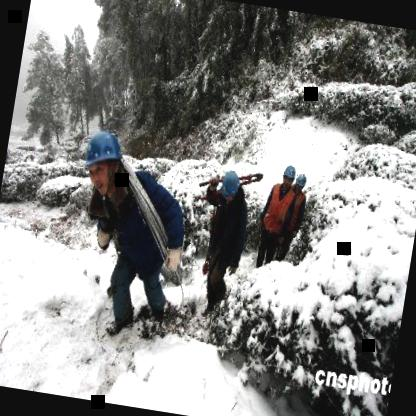helmet: (75, 124, 130, 200), (216, 165, 245, 209), (279, 162, 298, 192), (292, 168, 310, 197)
